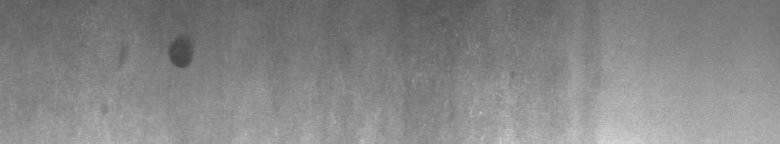fi: (103, 29, 199, 114)
